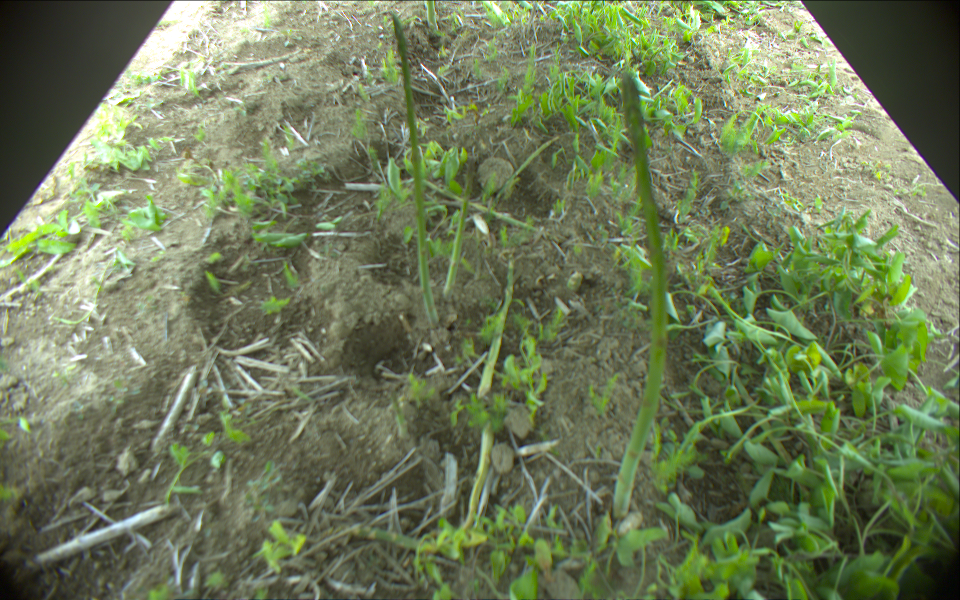aspa: (611, 68, 667, 519), (321, 419, 492, 551), (388, 13, 442, 327), (417, 178, 562, 238), (477, 255, 514, 401), (443, 159, 476, 298), (425, 1, 438, 27)
